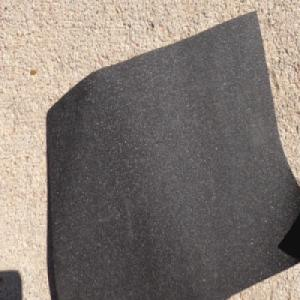PaintChip: (44, 14, 300, 300)
